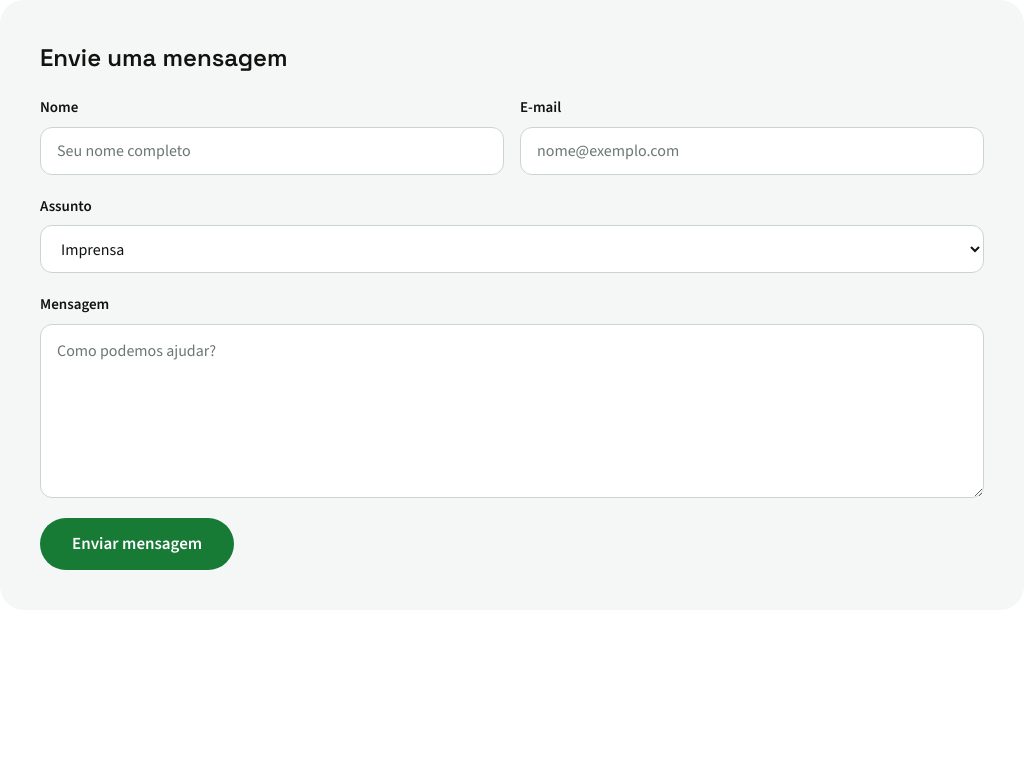
Scenario: Contato · formulário › sem e-mail configurado, informa que o envio não está disponível e não abre nada
Type "Maria Souza" into the field labelled "Nome" at (272, 150), box [40,126,504,174]
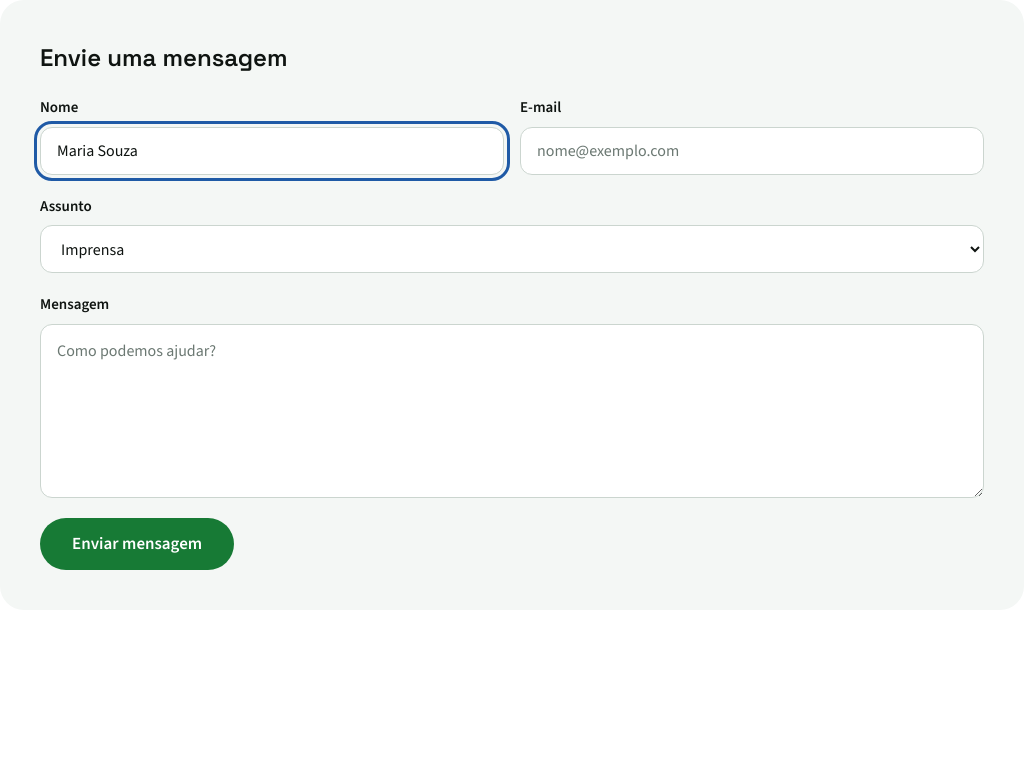
Type "maria@exemplo.com" into the field labelled "E-mail" at (752, 150), box [520,126,984,174]
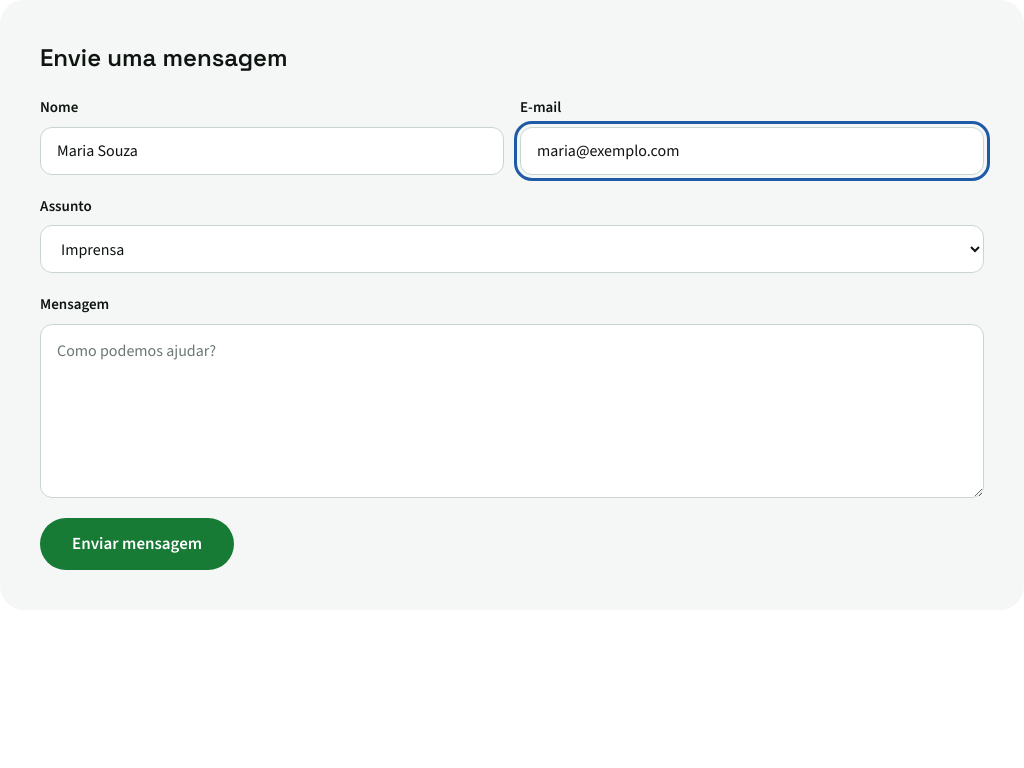
Type "Gostaria de agendar uma visita técnica." into the text box labelled "Mensagem" at (512, 410), box [40,324,984,498]
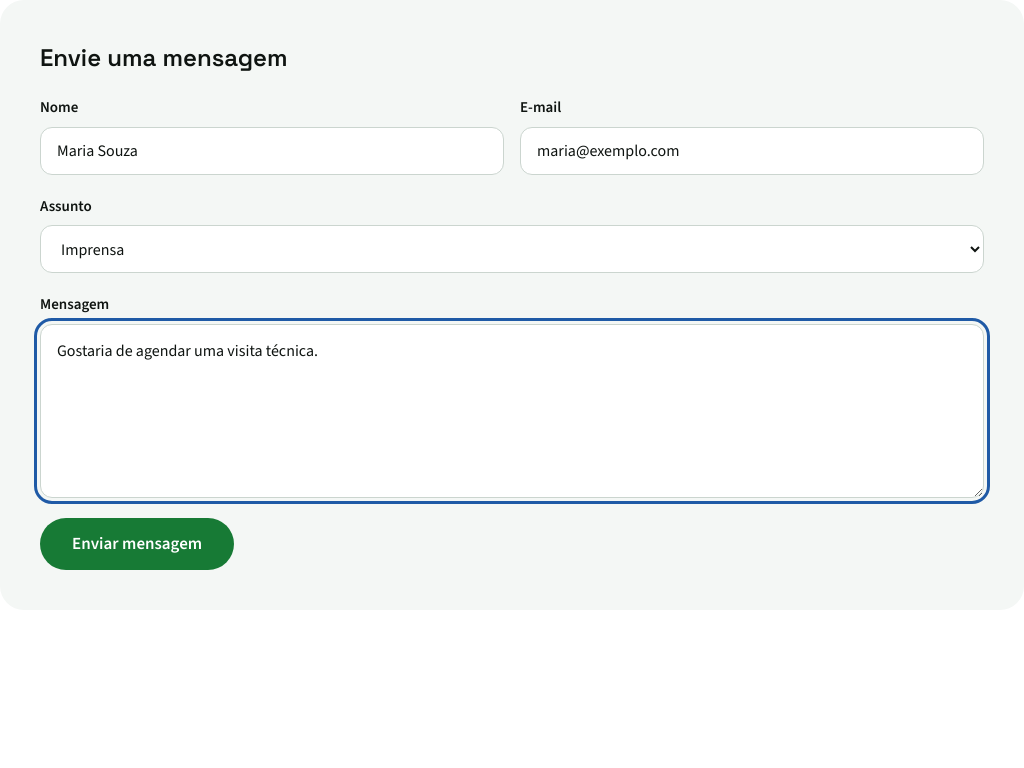
Click the button "Enviar mensagem" at (137, 544), box [40,518,234,570]
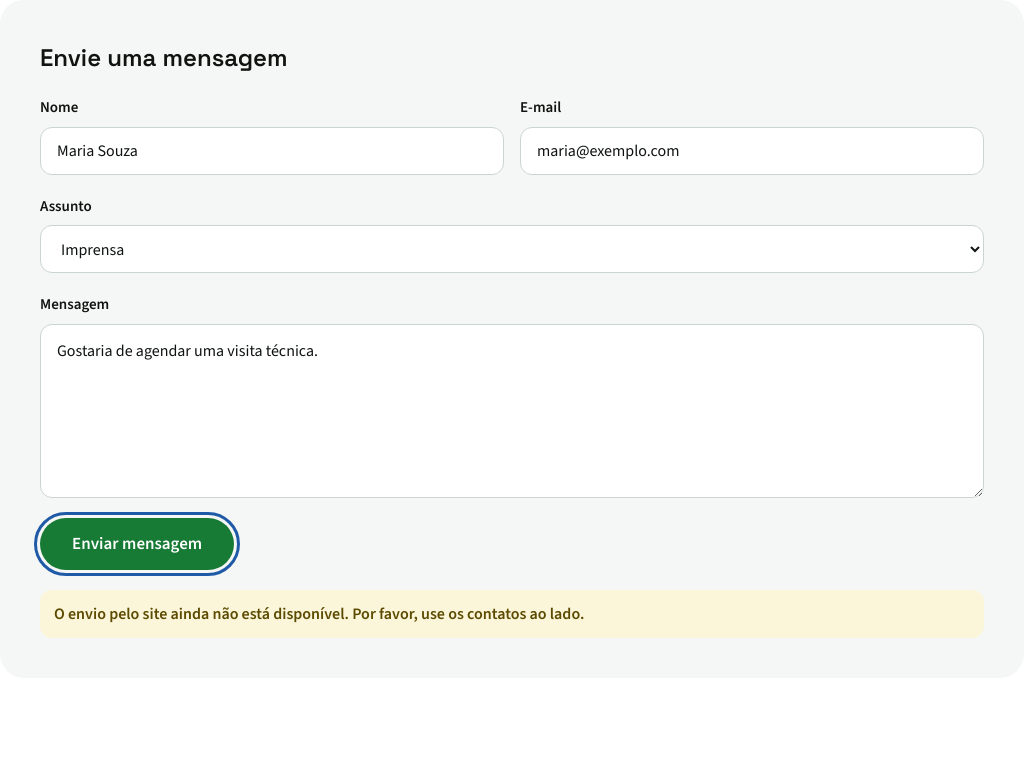
Check: the message shows "ainda não está disponível", box [54,602,584,624]
